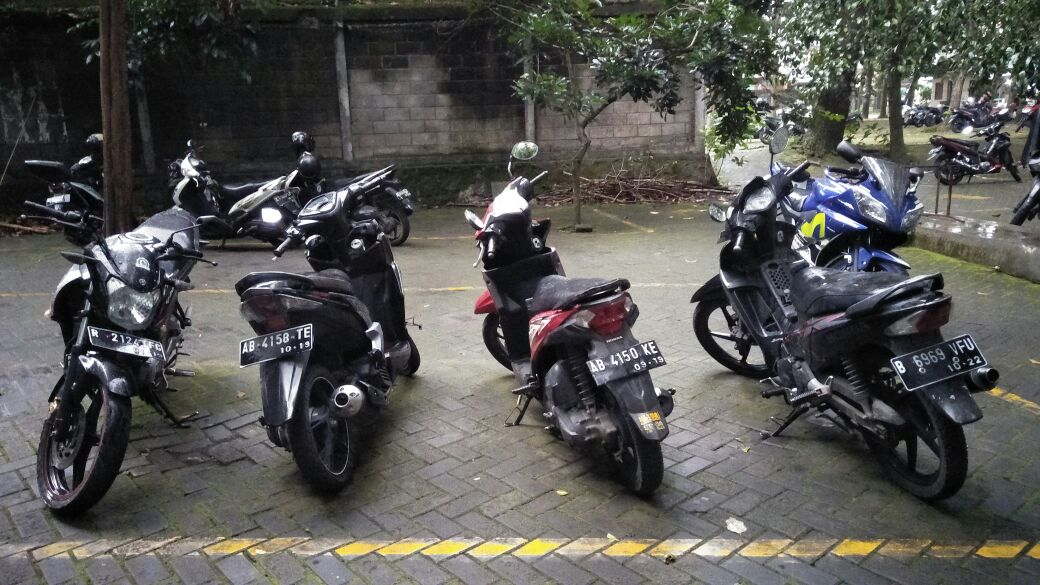plate: (889, 335, 987, 390), (588, 339, 669, 386), (238, 322, 316, 360)
